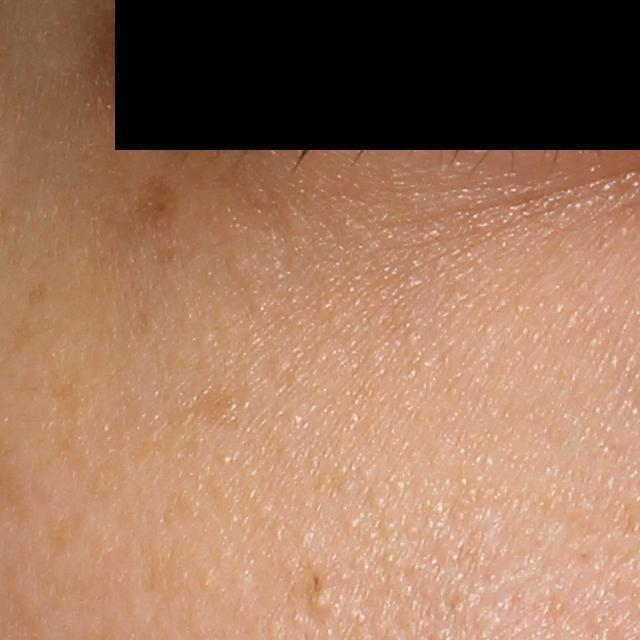comedo: (303, 588, 343, 621)
melasma: (45, 365, 93, 478), (121, 168, 180, 237), (180, 387, 250, 432), (24, 276, 51, 305)
